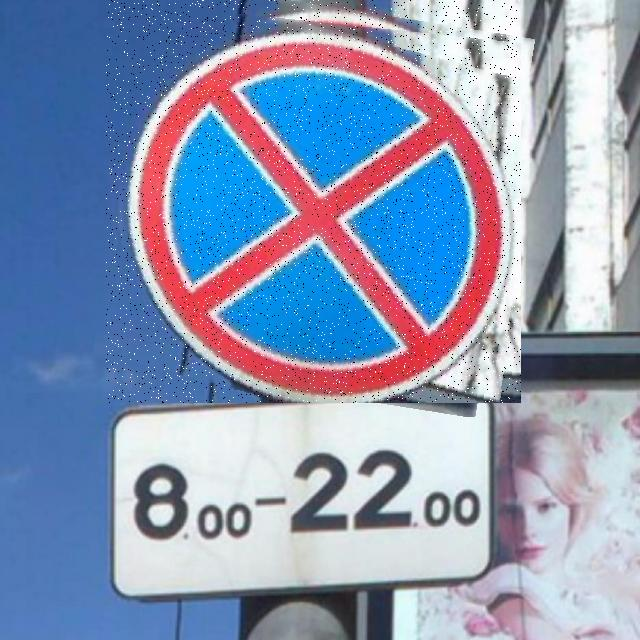no stopping: (106, 0, 521, 403)
